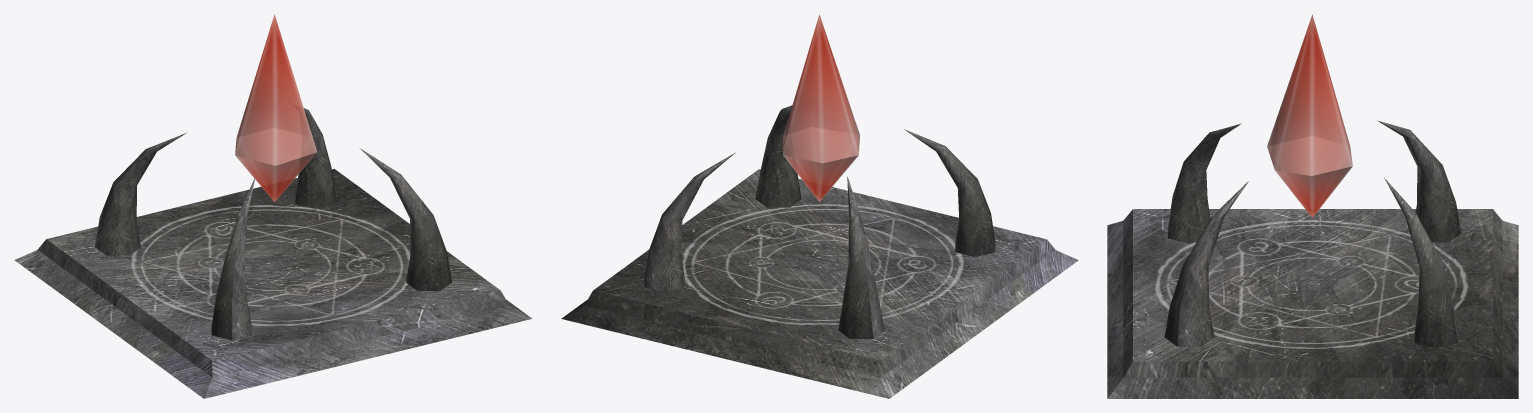
The model's file is mag.fbx.
The picture shows the model from 3 angles, left to right: view 1: azimuth 30°, elevation 25°; view 2: azimuth 150°, elevation 25°; view 3: azimuth 270°, elevation 25°; orthographic projection. The views are drawn at different scales.
Parts seen in each view (by area): view 1: polySurface2, polySurface17, polySurface9, polySurface7, polySurface8, polySurface6; view 2: polySurface2, polySurface17, polySurface7, polySurface8, polySurface6, polySurface9; view 3: polySurface2, polySurface17, polySurface9, polySurface6, polySurface7, polySurface8.
Boxes of the visible parts, x1,y1,x2,y2 form: polySurface2: [14, 169, 532, 398]; polySurface17: [235, 14, 317, 201]; polySurface9: [360, 148, 451, 290]; polySurface7: [95, 133, 186, 255]; polySurface8: [211, 177, 255, 340]; polySurface6: [295, 108, 335, 208]; polySurface2: [561, 169, 1078, 398]; polySurface17: [783, 14, 859, 201]; polySurface7: [838, 176, 884, 338]; polySurface8: [904, 129, 995, 256]; polySurface6: [644, 152, 735, 292]; polySurface9: [755, 105, 801, 207]; polySurface2: [1107, 209, 1518, 398]; polySurface17: [1267, 14, 1352, 217]; polySurface9: [1164, 181, 1248, 346]; polySurface6: [1384, 177, 1457, 347]; polySurface7: [1377, 120, 1461, 242]; polySurface8: [1168, 123, 1241, 243].
Size of the model in its own units: 5 by 4.01 by 5.
